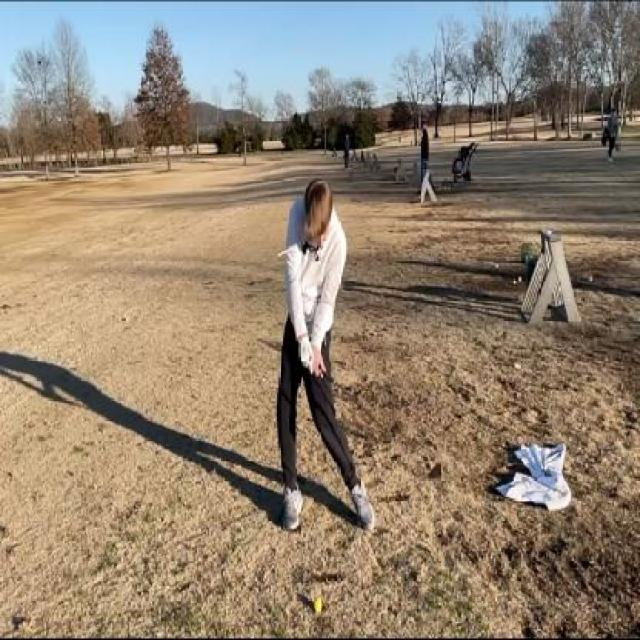club head: (427, 460, 444, 482)
